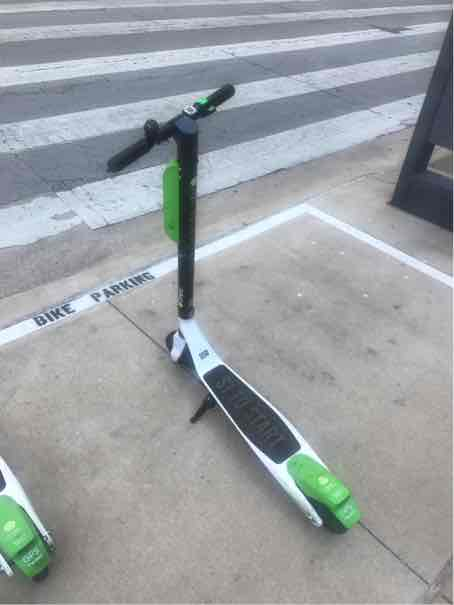scooter: (97, 76, 369, 544)
